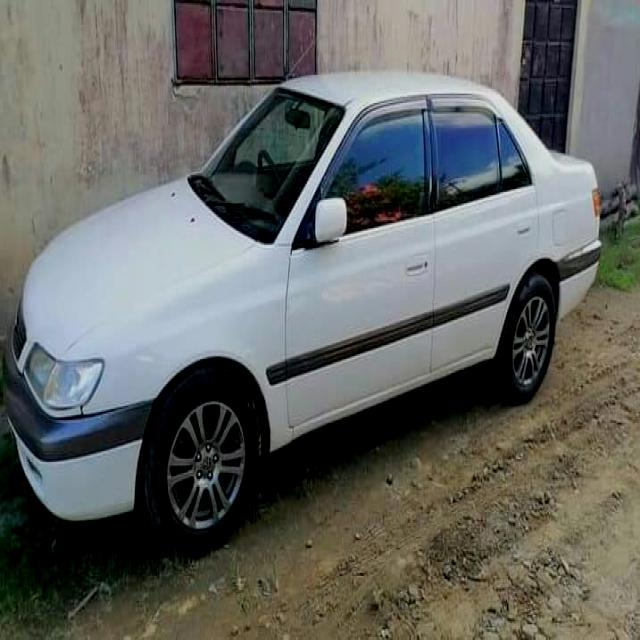white: (1, 70, 626, 486)
